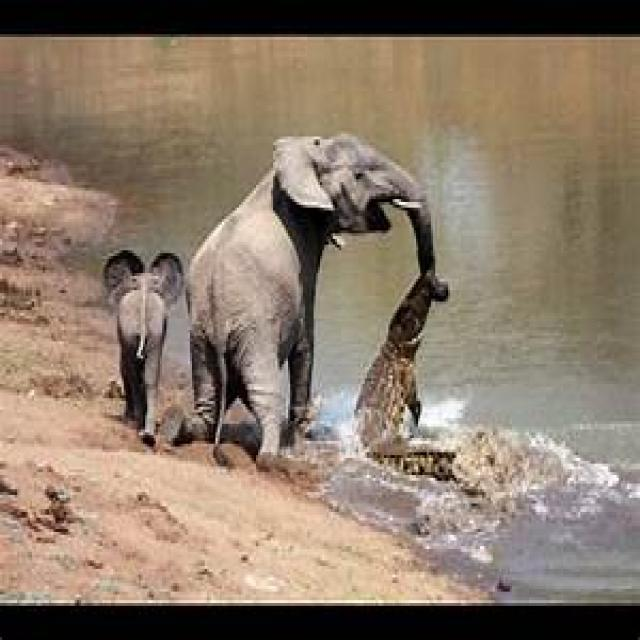elephant: (186, 137, 444, 464), (105, 253, 183, 447)
